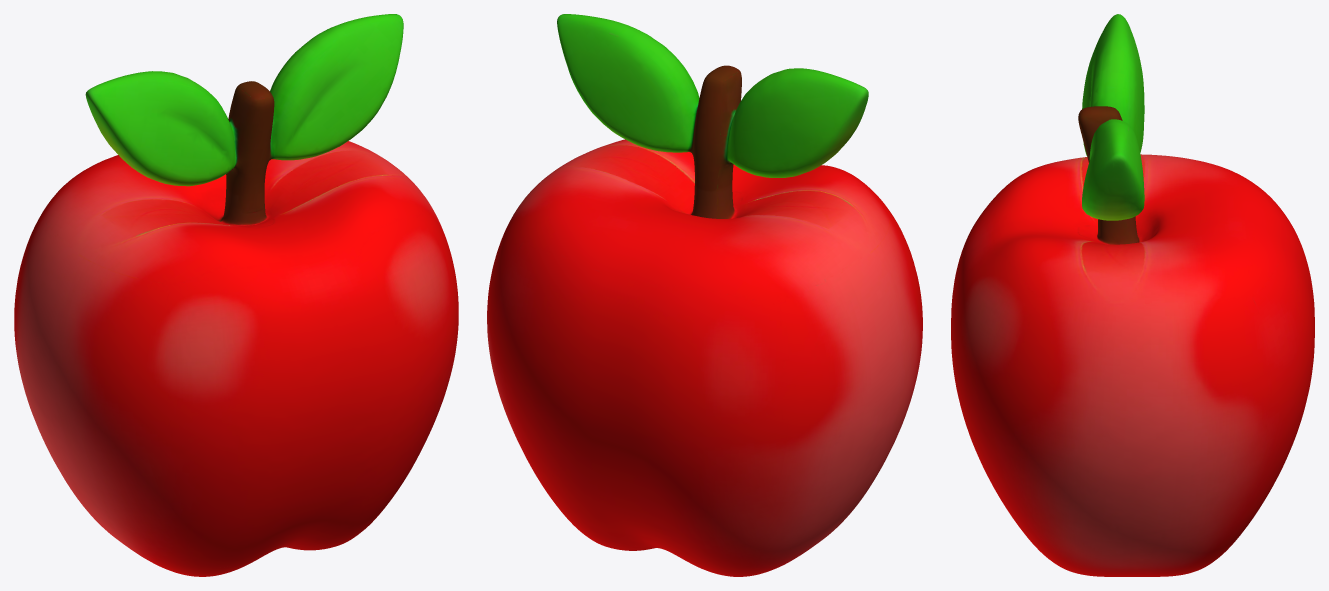
Rendered from apple.glb.
3 renders of one model, left to right at view 1: azimuth 30°, elevation 25°; view 2: azimuth 150°, elevation 25°; view 3: azimuth 270°, elevation 25°, orthographic. The views are drawn at different scales.
Parts seen in each view (by area): view 1: model; view 2: model; view 3: model.
Boxes of the visible parts, box(x1,y1,x2,y2) form: model: box(14, 14, 458, 576); model: box(487, 14, 922, 576); model: box(951, 14, 1314, 576).
Size of the model in its own units: 1.54 by 1.9 by 1.36.
1 material, 1 textured.
